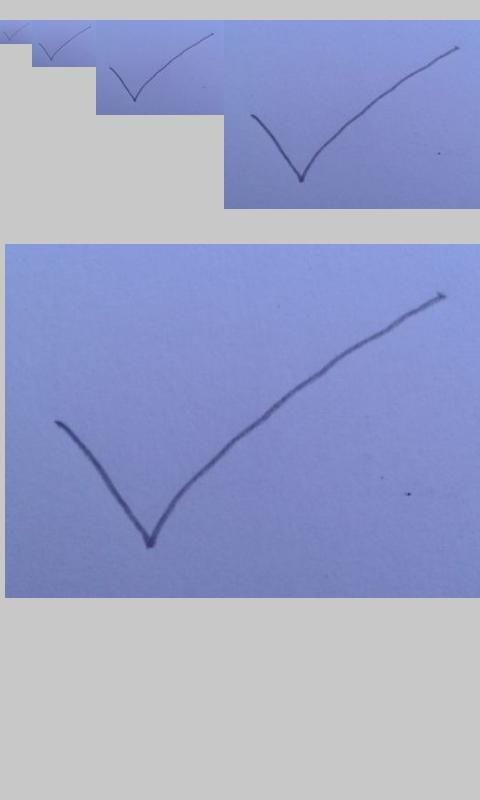check_box: (54, 292, 444, 553), (251, 45, 459, 184), (109, 33, 213, 102), (39, 28, 89, 60), (3, 24, 26, 41)
